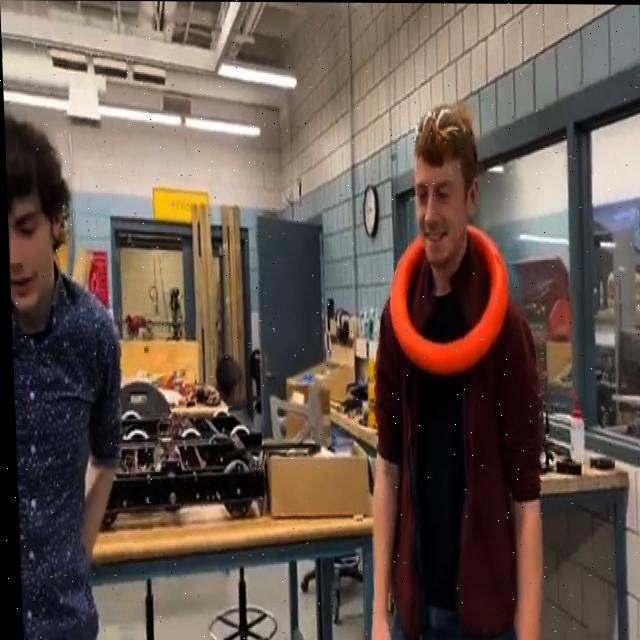note: (382, 220, 512, 381)
